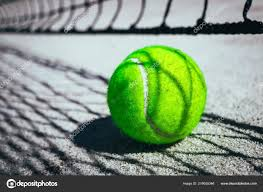tennis_ball: (105, 44, 208, 147)
